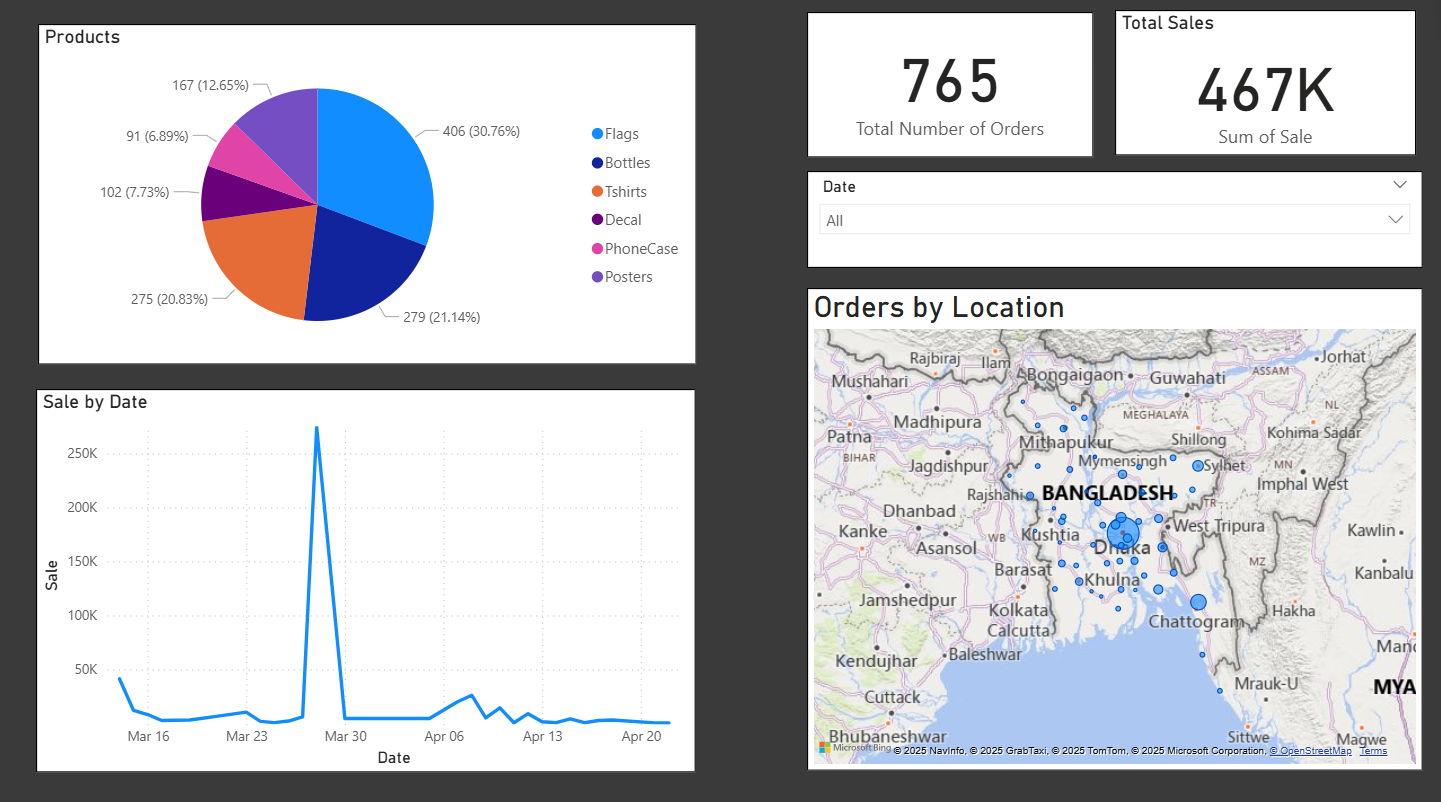

The dashboard page shown, as its layout file describes it:
{"tool":"powerbi","page":{"name":"Sales by Date","canvas":[1280,720],"ordinal":0},"visuals":[{"type":"card","fields":{"Values":["Table 1 (Sheet1).Total Number of Orders"]},"box":[718.2,16.8,253.6,128.6],"z":0},{"type":"slicer","fields":{"Values":["Table 1 (Sheet1).Date"]},"box":[717.8,157.6,545.7,85.6],"z":1000},{"type":"card","title":"Total Sales","fields":{"Values":["Sum(Table 1 (Sheet1).Sale)"]},"box":[991.3,15.1,266.9,128.6],"z":2000},{"type":"lineChart","title":"Sale by Date","fields":{"Y":["Sum(Table 1 (Sheet1).Sale)"],"Category":["Table 1 (Sheet1).Date.Variation.Date Hierarchy.Year","Table 1 (Sheet1).Date.Variation.Date Hierarchy.Month","Table 1 (Sheet1).Date.Variation.Date Hierarchy.Day"]},"box":[34.6,351.1,585.2,340.5],"z":3000},{"type":"pieChart","title":"Products","fields":{"Y":["Table 1 (Sheet1).Total Flags","Table 1 (Sheet1).Sum of Bottles","Table 1 (Sheet1).Total Tshirts","Table 1 (Sheet1).Total Decals","Table 1 (Sheet1).Total PhoneCase","Table 1 (Sheet1).Total Poster"]},"box":[36,27.2,583.6,301.5],"z":4000},{"type":"map","title":"Orders by Location","fields":{"Category":["Table 1 (Sheet1).Location"],"Size":["Table 1 (Sheet1).Total Number of Orders"]},"box":[717.8,261.6,545.7,428],"z":5000}]}

Visuals, with their boxes in screenshot pixels (x1, y1, x2, y2), scaled from the page's 1280x720 canvas onto the 1441x802 screenshot:
card - Table 1 (Sheet1).Total Number of Orders: bbox=(809, 19, 1094, 162)
slicer - Table 1 (Sheet1).Date: bbox=(808, 176, 1422, 271)
"Total Sales" card: bbox=(1116, 17, 1416, 160)
"Sale by Date" lineChart: bbox=(39, 391, 698, 770)
"Products" pieChart: bbox=(41, 30, 698, 366)
"Orders by Location" map: bbox=(808, 291, 1422, 768)
